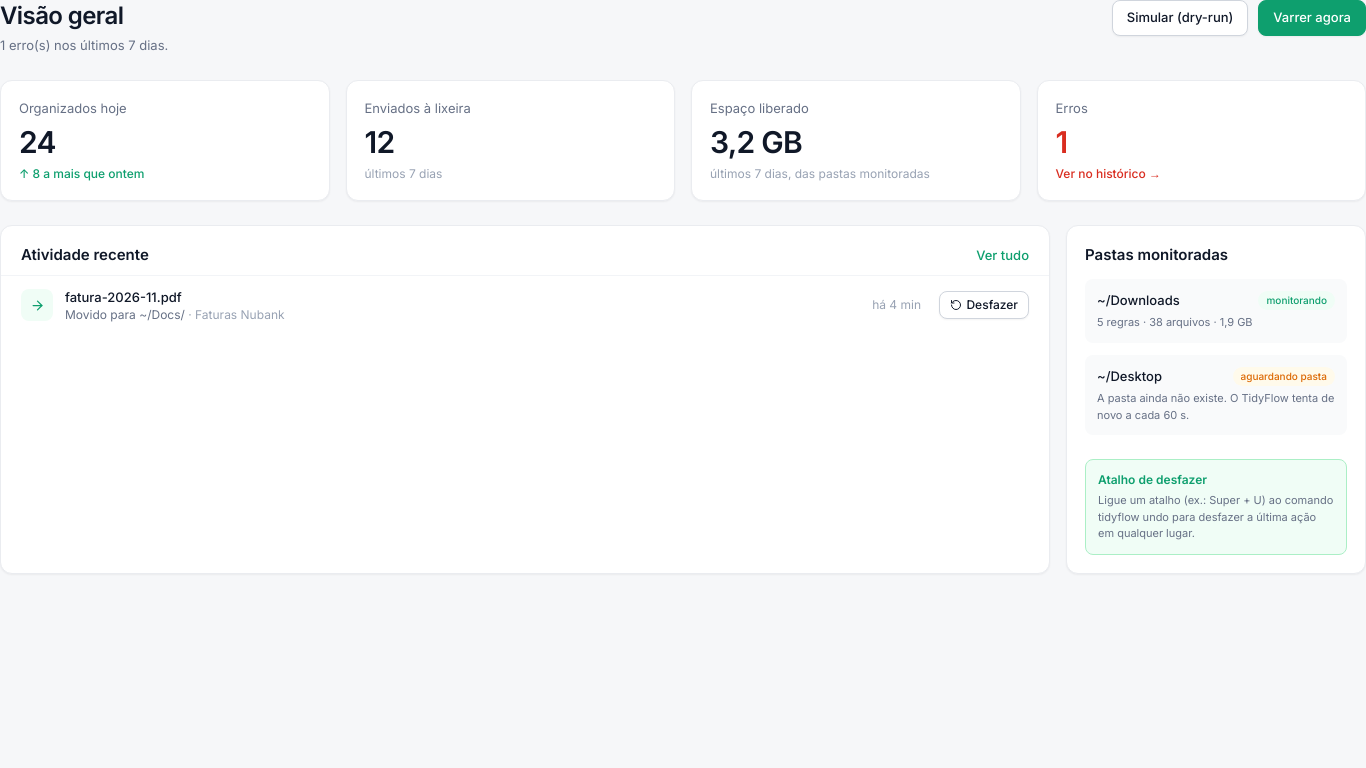
Overview › dry-run opens the plan
What coordinates should you click on to do the following:
click the button "Simular (dry-run)"
I would click on:
 (1180, 18)
Its box is x1=1112 y1=0 x2=1248 y2=36.
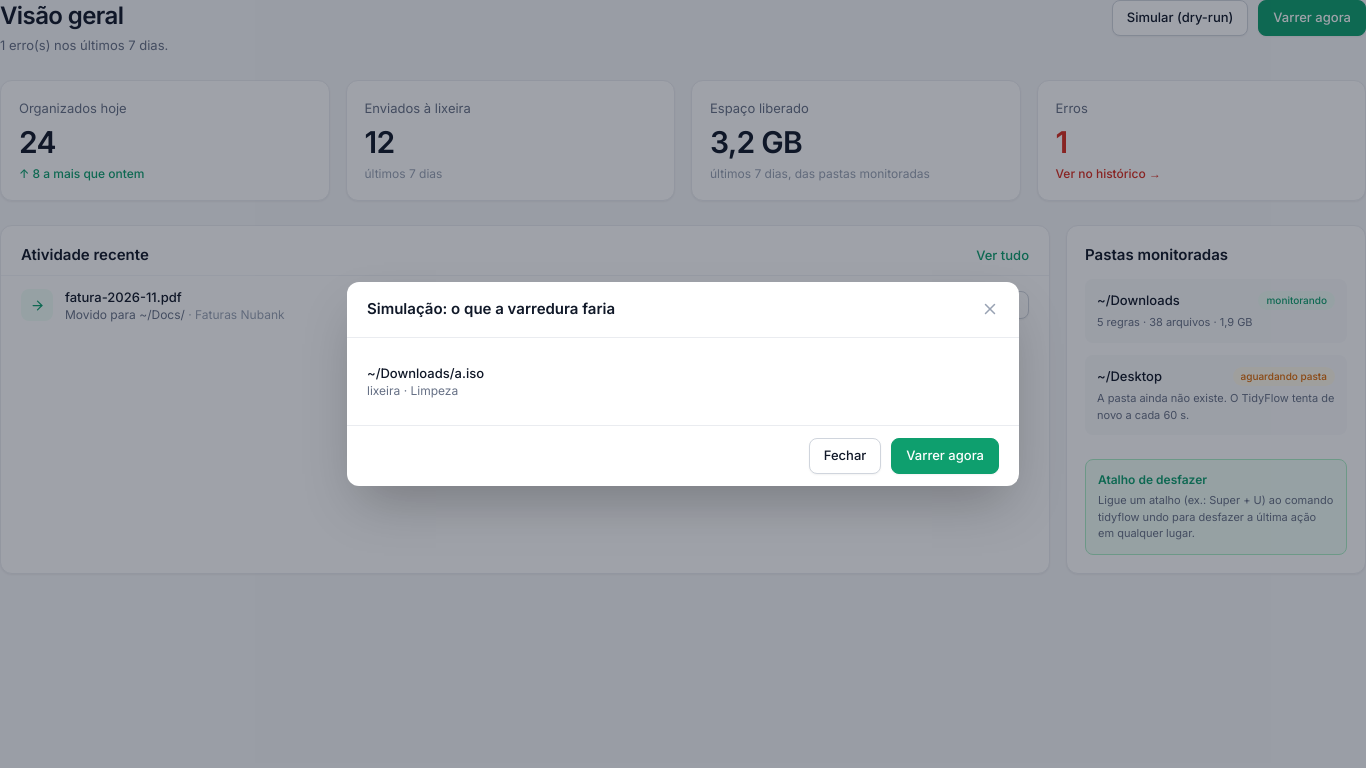
Now the text "lixeira · Limpeza" is shown, box x1=367 y1=383 x2=458 y2=398
